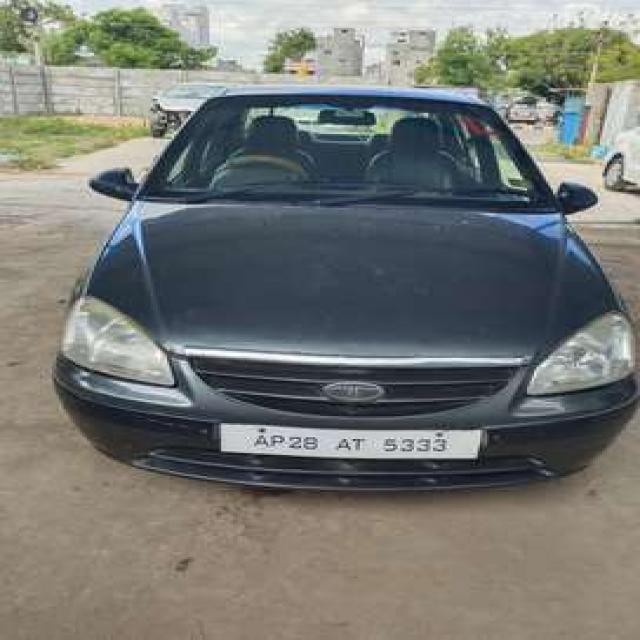license-plate: (217, 421, 476, 457)
